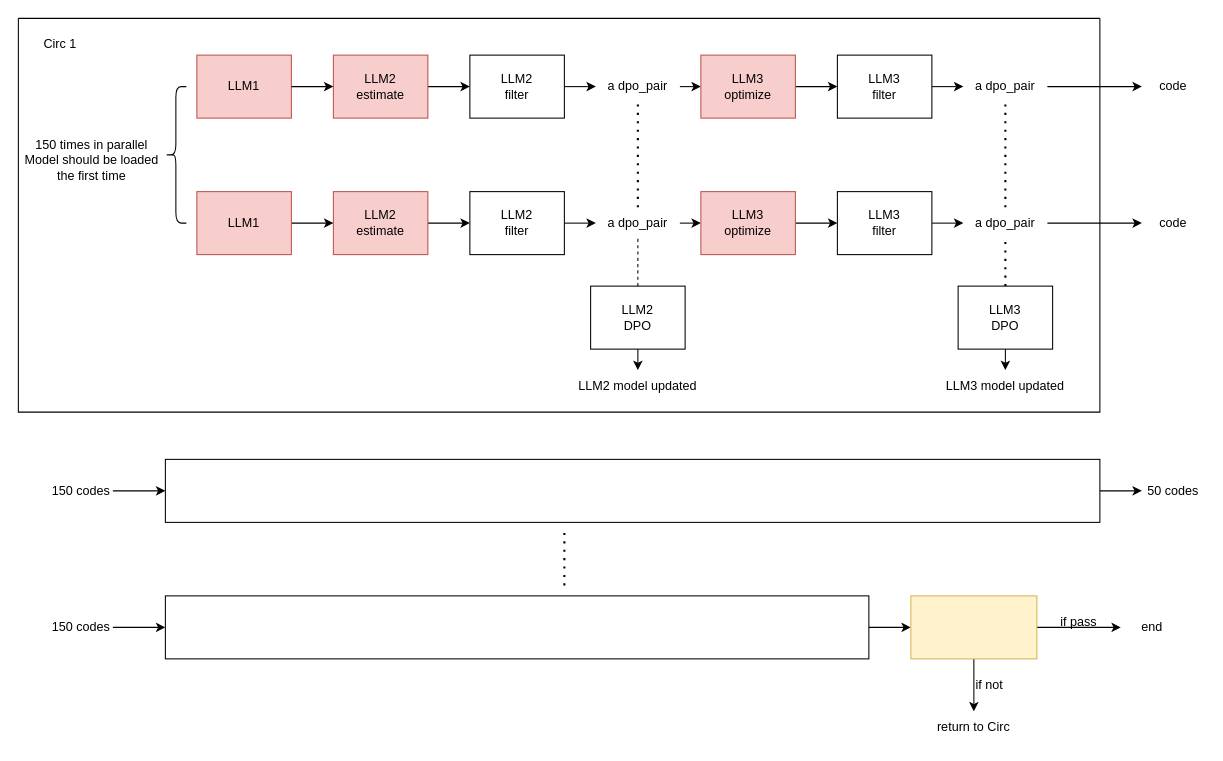
Image size: 1223x761. Some labels were removed from this diagram. The shapes that lost their labels are listed below. From the top down, each one's centre as x and y in pixels, then its label:
the point at 632,490: Circ 2（without LLM1）
the point at 516,627: Circ n in this circulation, LLM2 cannot estimate any error in the code
the point at 973,627: HumanEval Test
